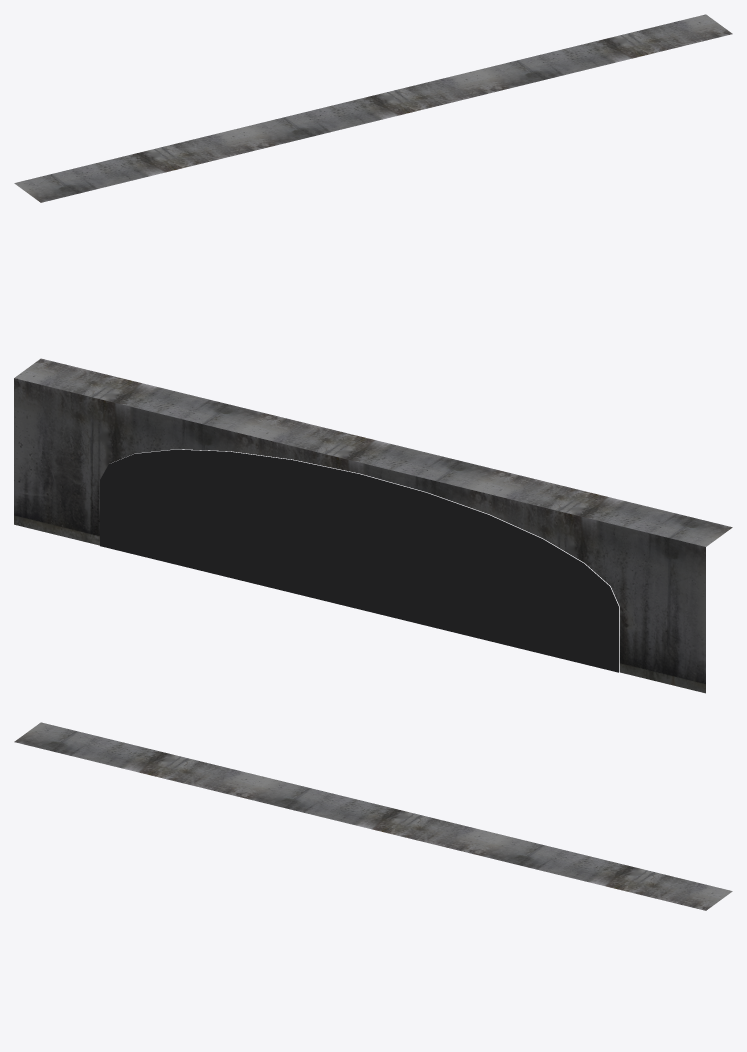
Rendered from tunel_lodni_celo.glb.
3 renders of one model, top to bottom at view 1: azimuth 30°, elevation 25°; view 2: azimuth 150°, elevation 25°; view 3: azimuth 330°, elevation 25°, orthographic.
Visible parts, largest first — view 1: tunel_lodni_celo; view 2: tunel_lodni_celo; view 3: tunel_lodni_celo.
Part boxes in pixels (left/top/right/bottom): tunel_lodni_celo: left=14, top=14, right=732, bottom=202; tunel_lodni_celo: left=14, top=358, right=732, bottom=693; tunel_lodni_celo: left=14, top=722, right=732, bottom=910.
Bounding box in the file's own units: 14.84 × 3 × 1.02.
Materials: 2 (1 with a texture image).
